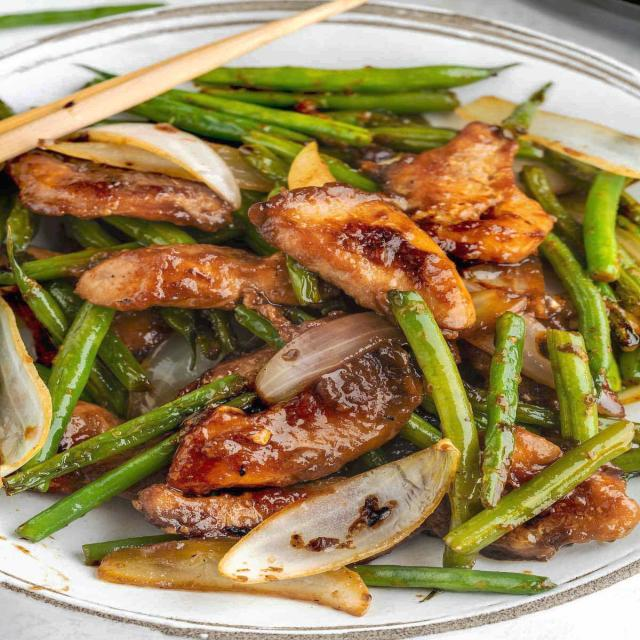String Bean Chicken Breast: (4, 61, 640, 615)
